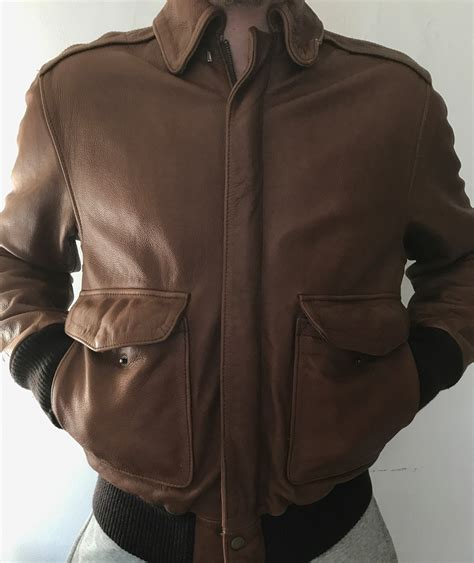cuero: (2, 2, 474, 563)
